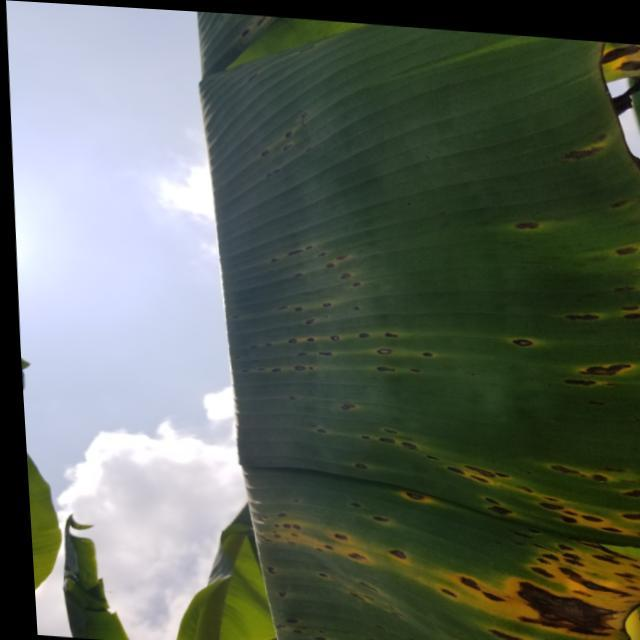Early_rust: (173, 0, 640, 640)
